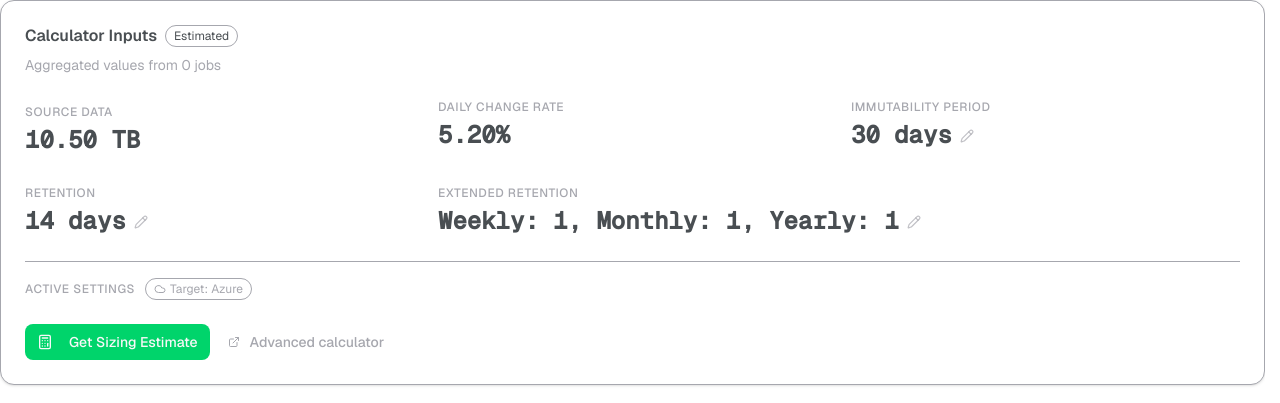
Test: CalculatorInputs › immutability period inline edit › clicking the pencil shows the number input and action buttons
Click the button named "edit immutability period". click: (967, 136)
box: top-left (960, 129), bottom-right (974, 143)
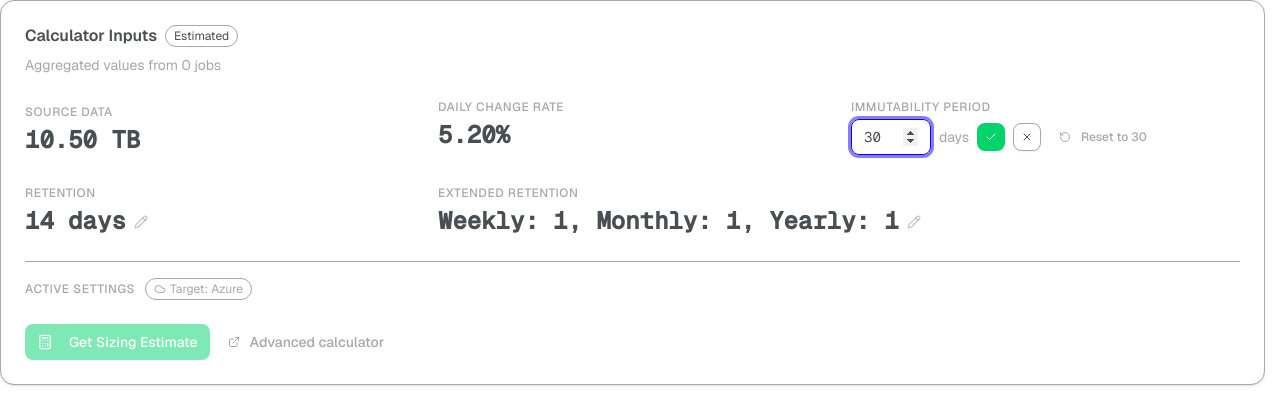
Expected: the number field is shown, top-left (851, 119), bottom-right (931, 155)
Expected: the button named "confirm immutability period" is shown, top-left (977, 123), bottom-right (1005, 151)
Expected: the button named "cancel immutability period edit" is shown, top-left (1013, 123), bottom-right (1041, 151)
